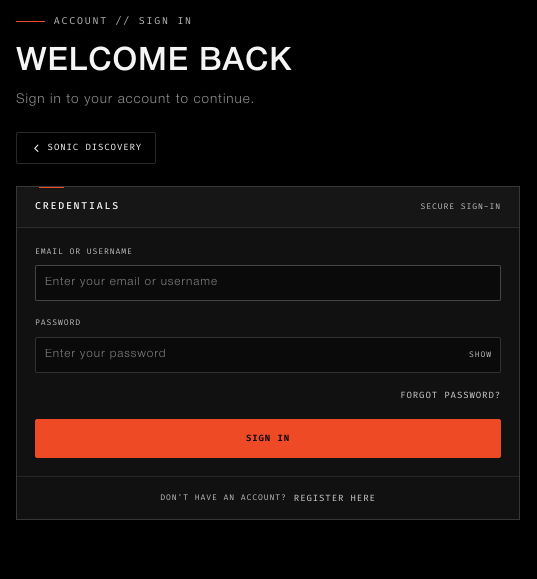
Test: LoginContent › field validation timing › clears the error as the user types after a failed submit
Submit the form "Email or Username Password Show Forgot password? Sign In", box [17,228,519,476]
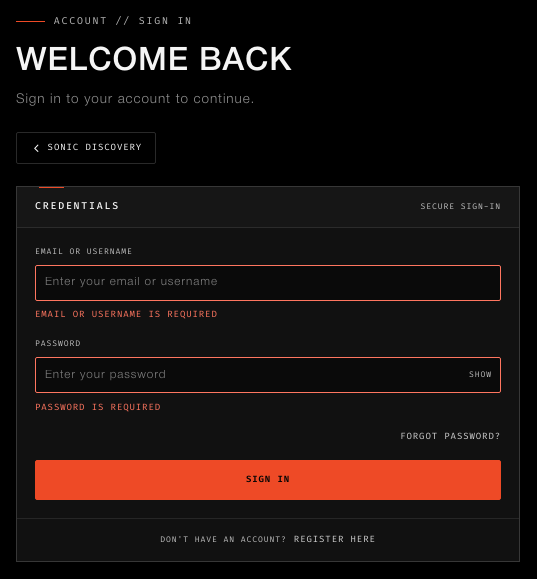
Result: the text "Email or username is required" is shown at [35,308,218,322]
Type "ada@example.com" into the field labelled "Email or Username" at coordinates (268, 283), box [35,265,501,301]
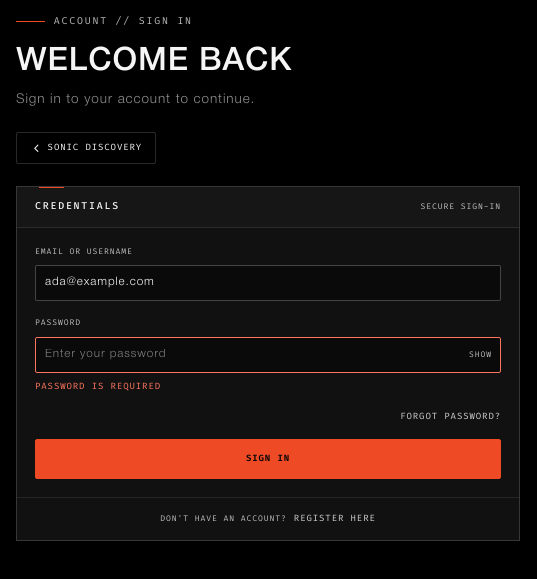
Result: the text "Email or username is required" is gone
